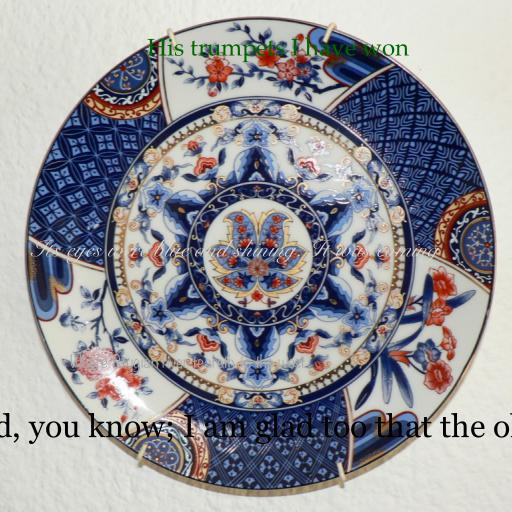Georgia: (0, 412, 512, 445)
Noteworthy: (69, 353, 305, 373)
Palatino: (147, 36, 409, 63)
Snell Roundhand: (31, 239, 439, 264)
